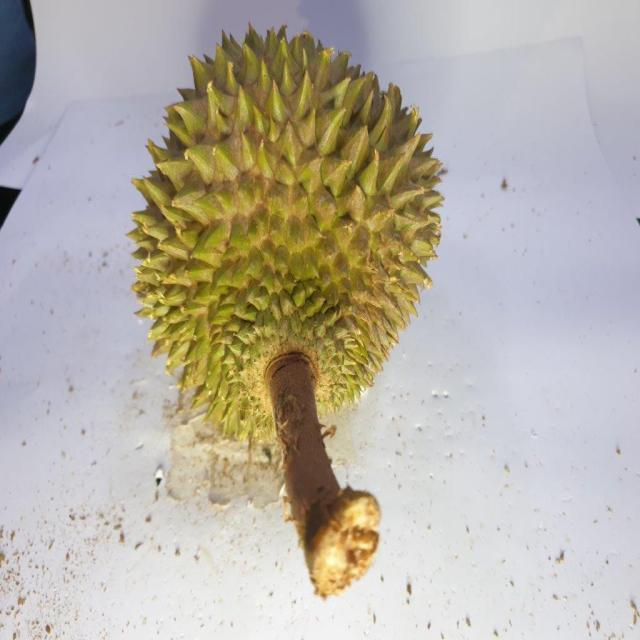immature: (124, 23, 445, 445)
